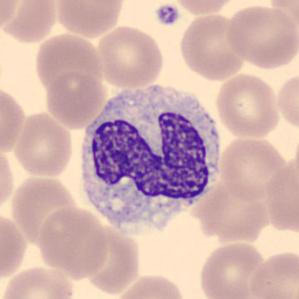Monocyte: (72, 78, 226, 237)
Platelets: (154, 2, 181, 27)
RBC: (36, 205, 111, 280), (223, 1, 298, 70), (177, 12, 247, 82), (217, 133, 288, 202), (196, 182, 272, 245), (94, 24, 166, 89), (32, 31, 105, 94), (214, 72, 282, 139), (13, 110, 76, 180), (79, 227, 145, 293), (196, 238, 267, 299), (43, 69, 107, 130), (53, 0, 127, 38), (245, 247, 299, 299), (0, 263, 77, 299), (263, 158, 299, 232), (1, 0, 60, 44), (0, 210, 29, 282), (0, 83, 27, 158), (113, 272, 188, 299), (274, 70, 298, 133), (169, 0, 242, 16), (0, 144, 16, 214), (268, 0, 298, 36), (0, 0, 22, 35)
